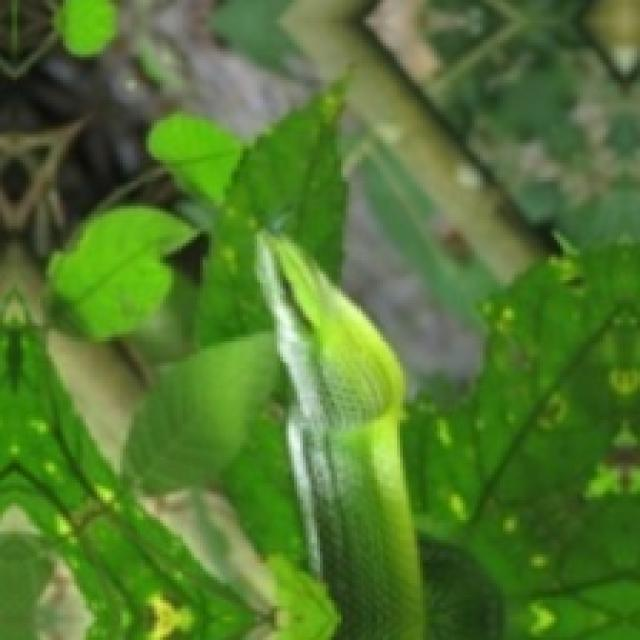red-tailed green ratsnake: (257, 231, 420, 637)
